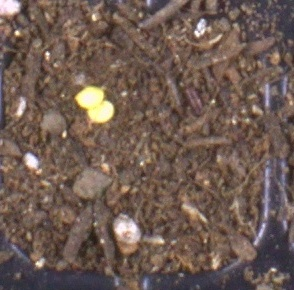chilli seed: (74, 85, 104, 108), (87, 100, 114, 123)
